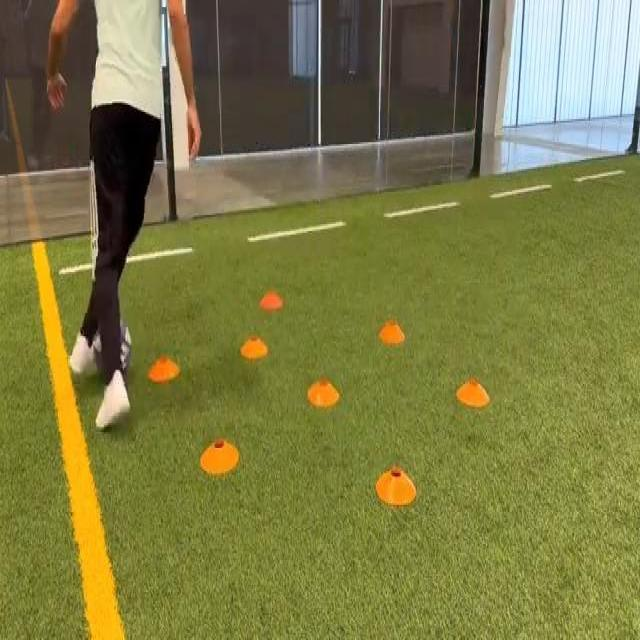Soccer Ball: (92, 316, 134, 386)
